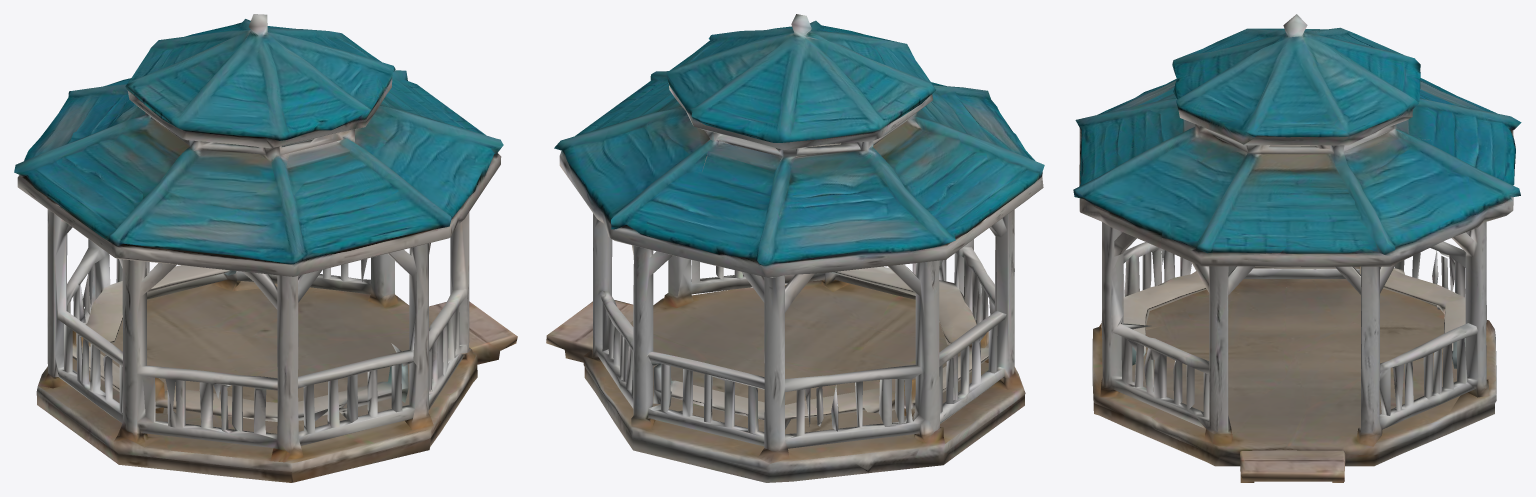
The model's file is cardak.glb.
The picture shows the model from 3 angles, left to right: view 1: azimuth 30°, elevation 25°; view 2: azimuth 150°, elevation 25°; view 3: azimuth 270°, elevation 25°; orthographic projection. The views are drawn at different scales.
Visible parts, largest first — view 1: tripo_node_ee1f91df-6c7f-4f42-a050-7f99e48aa03e; view 2: tripo_node_ee1f91df-6c7f-4f42-a050-7f99e48aa03e; view 3: tripo_node_ee1f91df-6c7f-4f42-a050-7f99e48aa03e.
Boxes of the visible parts, <box> form: tripo_node_ee1f91df-6c7f-4f42-a050-7f99e48aa03e: <box>14,14,517,482</box>; tripo_node_ee1f91df-6c7f-4f42-a050-7f99e48aa03e: <box>546,14,1044,482</box>; tripo_node_ee1f91df-6c7f-4f42-a050-7f99e48aa03e: <box>1073,14,1521,482</box>.
Size of the model in its own units: 1.01 by 0.8437 by 0.9354.
Materials: 1 (1 with a texture image).
